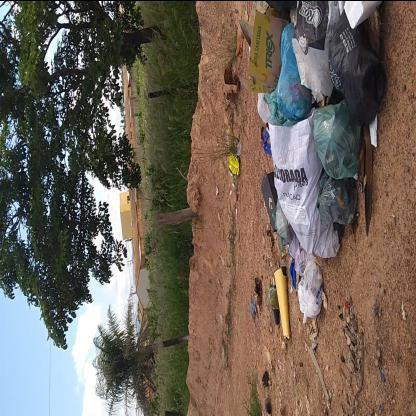lixo: (256, 0, 384, 336)
